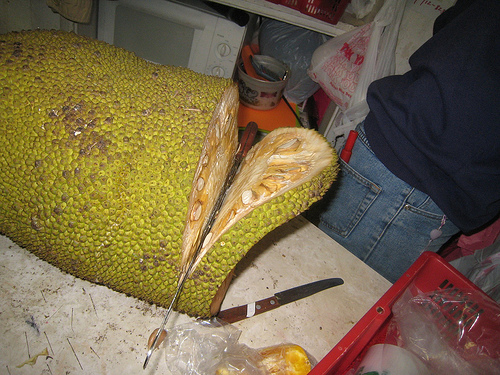jackfruit: (0, 28, 338, 331)
